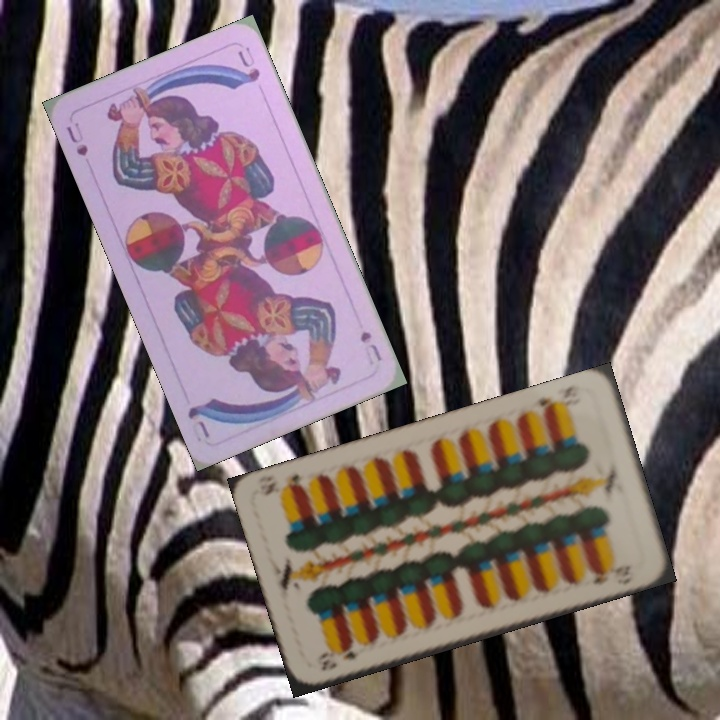E10: (533, 381, 585, 419), (314, 642, 367, 674)
SU: (356, 327, 385, 368), (62, 118, 91, 159)
